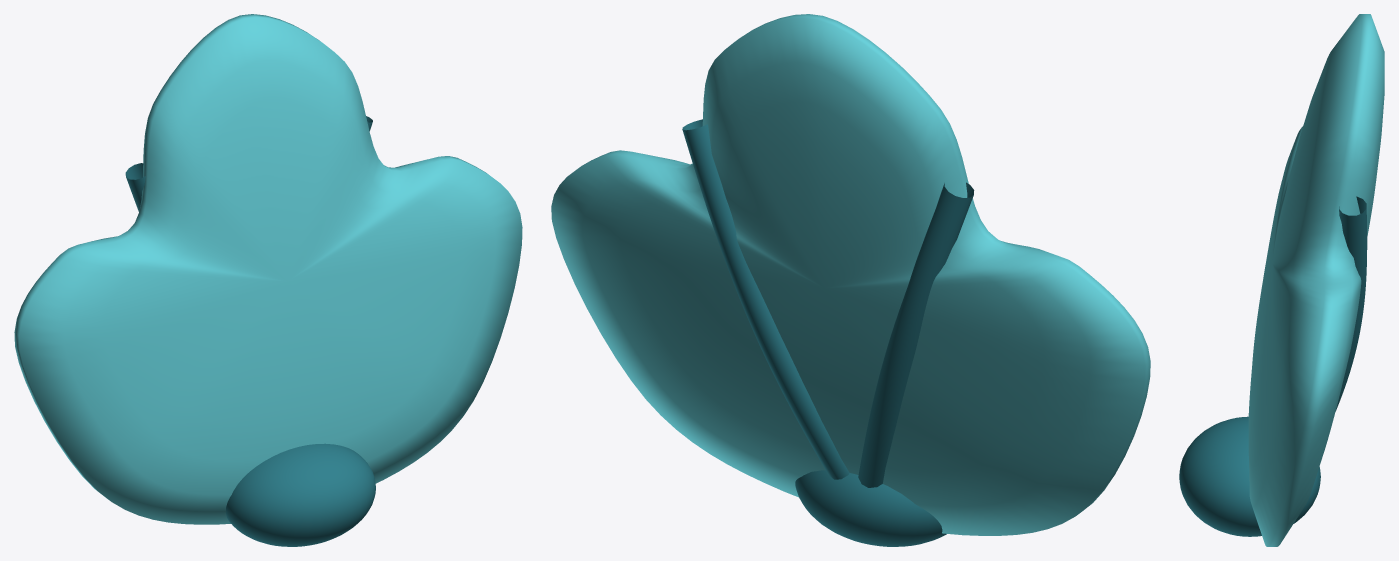
Rendered from ocean-fin.glb.
3 renders of one model, left to right at view 1: azimuth 30°, elevation 25°; view 2: azimuth 150°, elevation 25°; view 3: azimuth 270°, elevation 25°, orthographic. The views are drawn at different scales.
Visible parts, largest first — view 1: fin_continuous_membrane, fin_hidden_root; view 2: fin_continuous_membrane, fin_rib_-1, fin_rib_1, fin_hidden_root; view 3: fin_continuous_membrane, fin_hidden_root, fin_rib_1.
Boxes of the visible parts, x1,y1,x2,y2 form: fin_continuous_membrane: (14,14,522,524); fin_hidden_root: (225,443,375,546); fin_continuous_membrane: (551,14,1150,535); fin_rib_-1: (858,182,974,487); fin_rib_1: (682,119,849,479); fin_hidden_root: (795,470,946,546); fin_continuous_membrane: (1248,14,1384,546); fin_hidden_root: (1179,416,1320,536); fin_rib_1: (1335,196,1367,411).
Size of the model in its own units: 0.86 by 0.785 by 0.2901.
